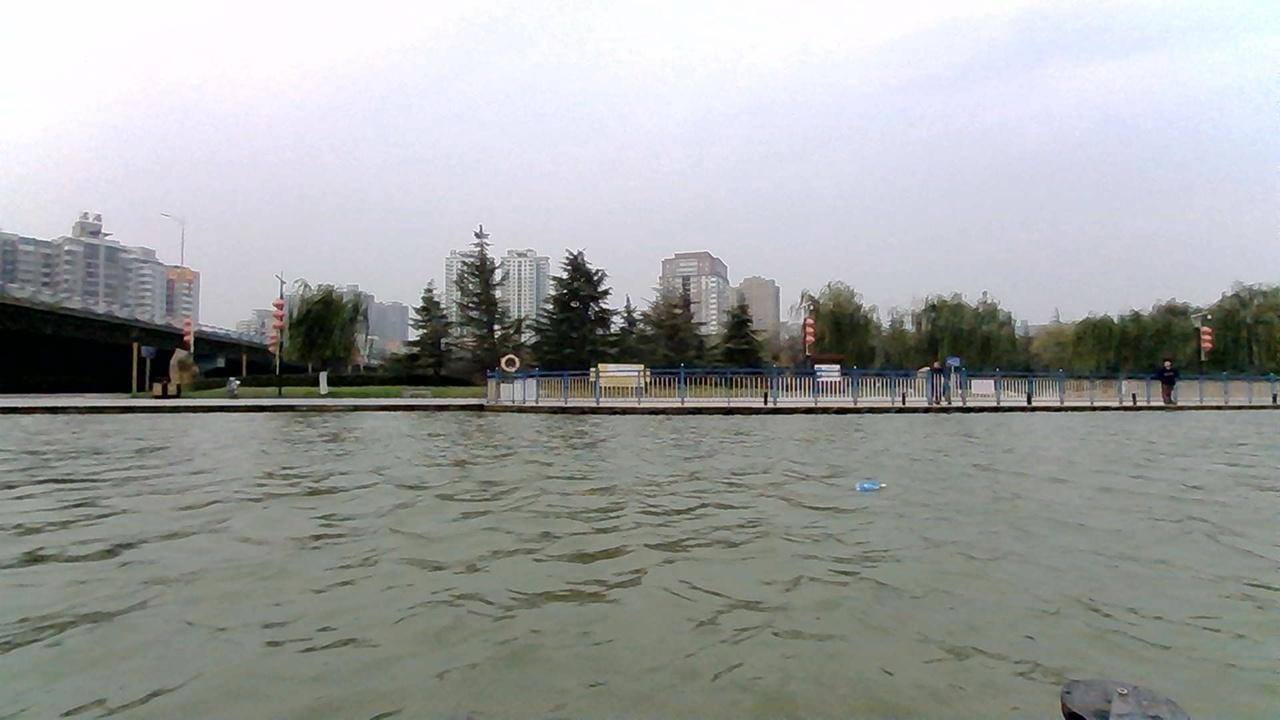bottle: (853, 479, 886, 491)
